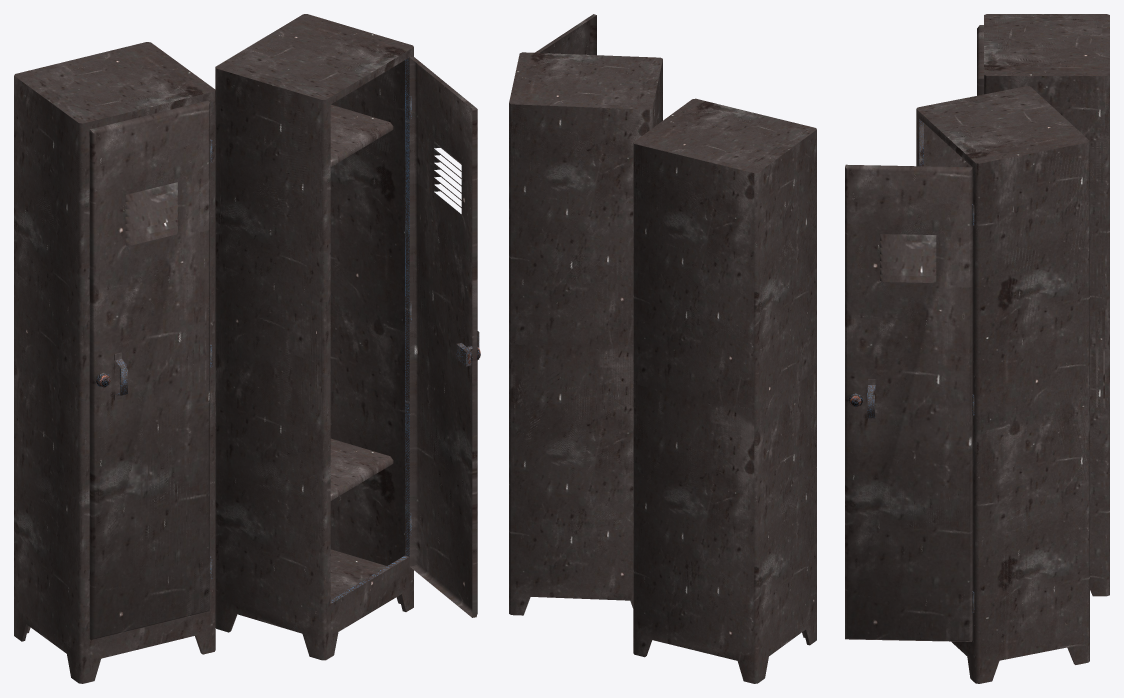
Rendered from cabinete_metal.dae.
3 renders of one model, left to right at view 1: azimuth 30°, elevation 25°; view 2: azimuth 150°, elevation 25°; view 3: azimuth 270°, elevation 25°, orthographic. The views are drawn at different scales.
Visible parts, largest first — view 1: met_shkaf (×3), door_met_shkaf (×2); view 2: met_shkaf (×2), door_met_shkaf; view 3: met_shkaf (×2), door_met_shkaf (×9).
Boxes of the visible parts, bbox=[...] form: met_shkaf (×3): bbox=[14, 14, 413, 683]; door_met_shkaf (×2): bbox=[89, 56, 477, 640]; met_shkaf (×2): bbox=[509, 52, 816, 683]; door_met_shkaf: bbox=[535, 14, 596, 55]; met_shkaf (×2): bbox=[916, 14, 1109, 683]; door_met_shkaf (×9): bbox=[845, 25, 983, 641].
Bounding box in the file's own units: 45.98 × 33.74 × 73.15.
